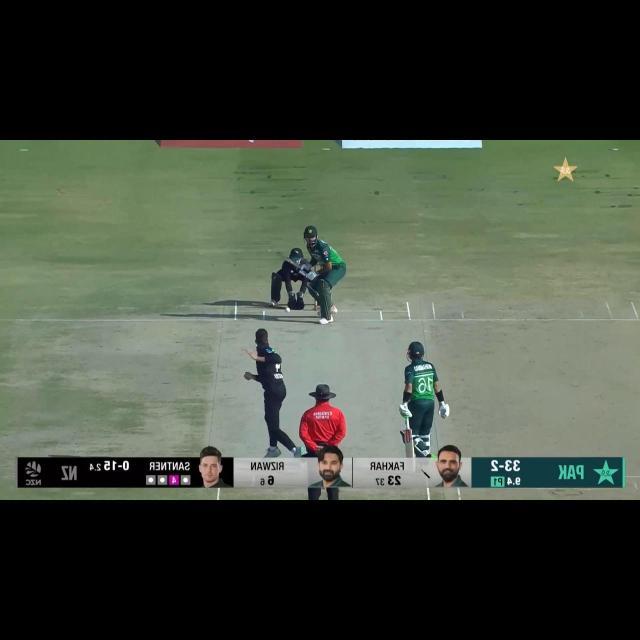bat: (267, 248, 305, 272), (404, 428, 415, 459)
toe: (266, 248, 282, 257), (404, 455, 419, 460)
